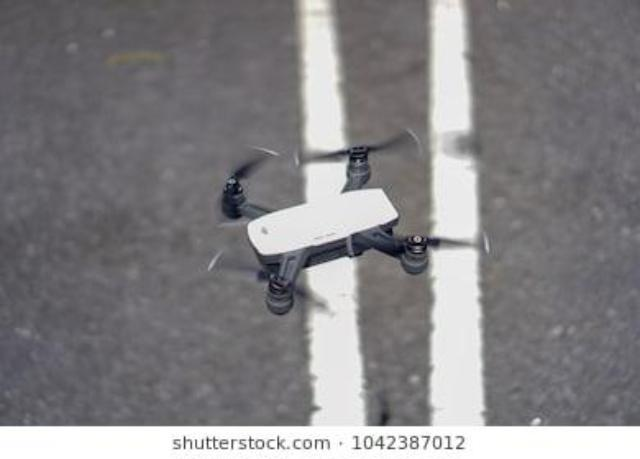drone: (193, 108, 503, 327)
